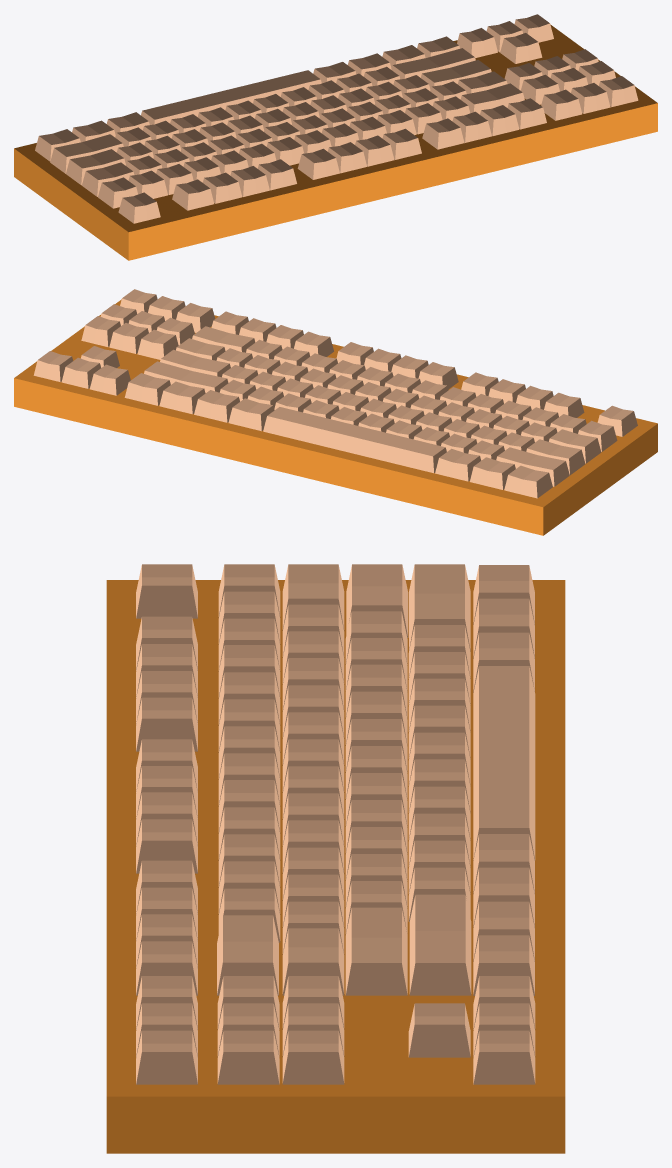
Rendered from Keyboard 3.fbx.
The picture shows the model from 3 angles, top to bottom: view 1: azimuth 30°, elevation 25°; view 2: azimuth 150°, elevation 25°; view 3: azimuth 270°, elevation 25°; orthographic projection. The views are drawn at different scales.
Parts seen in each view (by area): view 1: Node 0; view 2: Node 0; view 3: Node 0.
Part boxes in pixels (left/top/right/bottom): Node 0: left=14, top=14, right=657, bottom=260; Node 0: left=14, top=289, right=657, bottom=535; Node 0: left=106, top=564, right=565, bottom=1153.
Bounding box in the file's own units: 0.2155 × 0.0454 × 0.5747.
